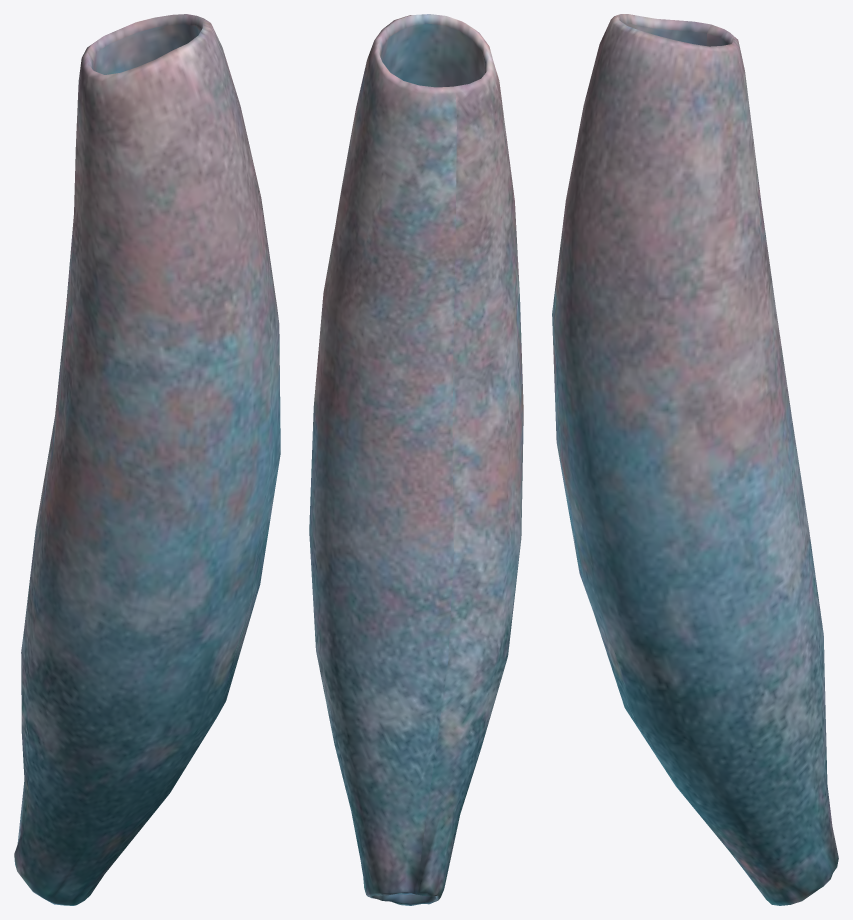
The model's file is PipeSponge_02-transformed.glb.
3 views of the same model, side by side, from view 1: azimuth 30°, elevation 25°; view 2: azimuth 150°, elevation 25°; view 3: azimuth 270°, elevation 25° (orthographic). The views are drawn at different scales.
Visible parts, largest first — view 1: PipeSponge_02; view 2: PipeSponge_02; view 3: PipeSponge_02.
Part boxes in pixels (bbox=[...]): PipeSponge_02: bbox=[14, 14, 280, 905]; PipeSponge_02: bbox=[309, 14, 523, 905]; PipeSponge_02: bbox=[552, 14, 838, 905].
Size of the model in its own units: 3.4 by 14.21 by 4.1.
1 material, 1 textured.
